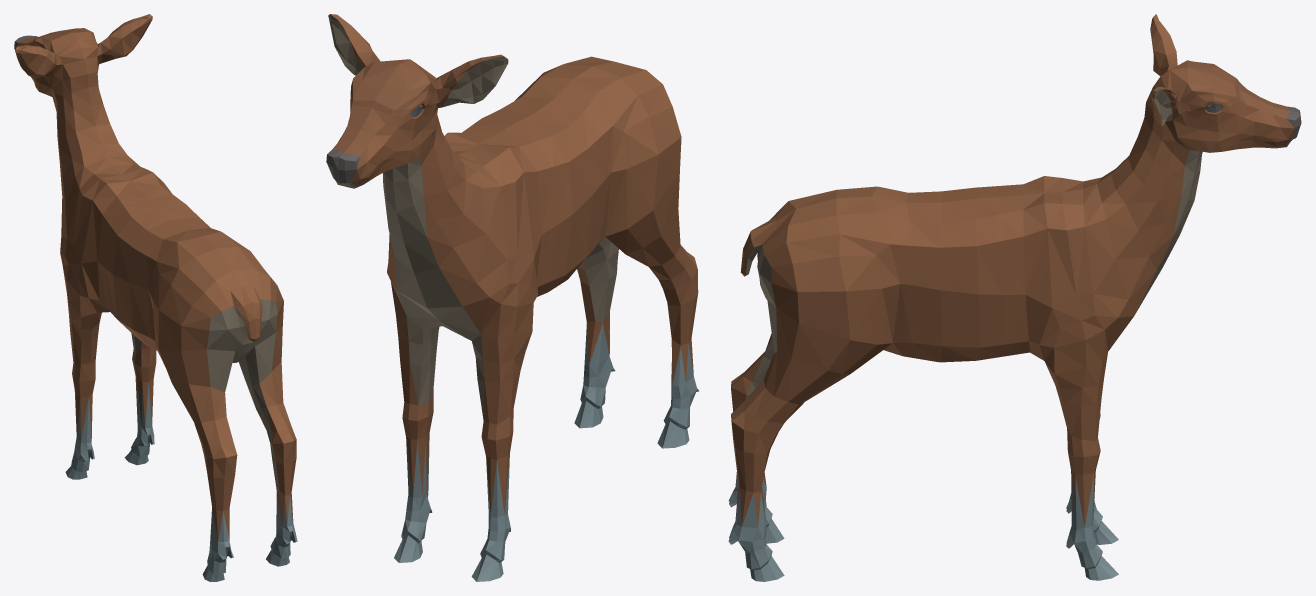
File: nebelgams.glb
3 renders of one model, left to right at view 1: azimuth 30°, elevation 25°; view 2: azimuth 150°, elevation 25°; view 3: azimuth 270°, elevation 25°, orthographic. The views are drawn at different scales.
Parts seen in each view (by area): view 1: Deer; view 2: Deer; view 3: Deer.
Boxes of the visible parts, x1,y1,x2,y2 form: Deer: (14, 14, 297, 581); Deer: (326, 14, 698, 581); Deer: (728, 14, 1301, 581).
Bounding box in the file's own units: 0.4681 × 1.37 × 1.41.
